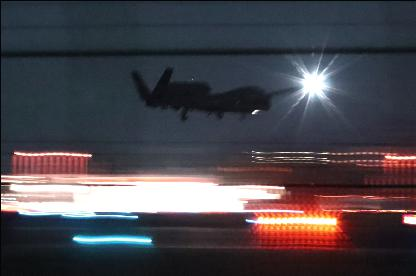P3: (129, 65, 307, 121)
